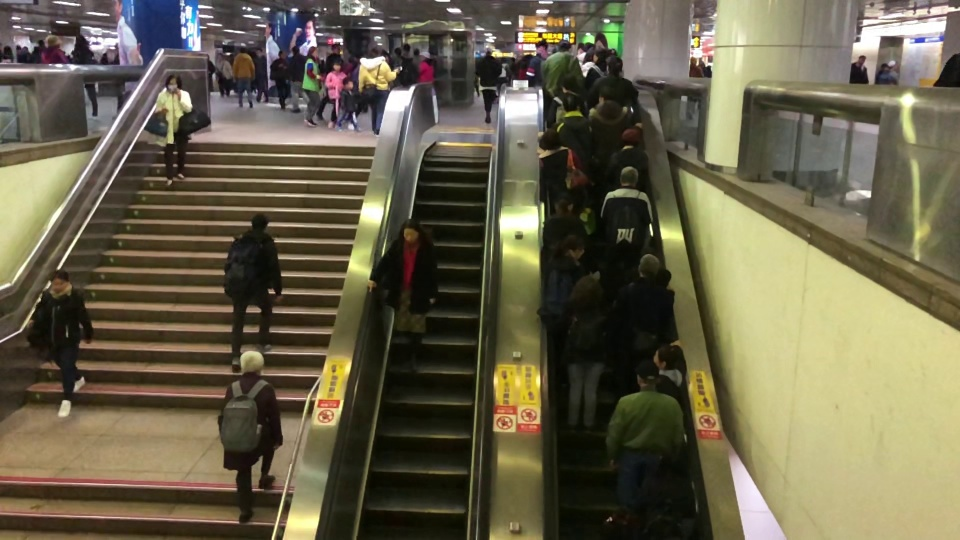person_head: (571, 274, 602, 305), (632, 358, 661, 390), (652, 343, 681, 372), (658, 451, 688, 478), (238, 349, 265, 376), (637, 253, 661, 282), (561, 233, 585, 260), (537, 127, 561, 152), (552, 191, 574, 216), (48, 269, 69, 295), (618, 165, 639, 188), (597, 84, 618, 104), (559, 71, 577, 92), (621, 128, 640, 147), (165, 73, 182, 94), (250, 212, 267, 233), (607, 54, 623, 76), (561, 93, 579, 112), (581, 49, 598, 65), (368, 45, 383, 60), (46, 34, 61, 48), (534, 40, 548, 55), (595, 51, 609, 66), (330, 58, 343, 73), (341, 76, 354, 91), (556, 39, 571, 52), (73, 34, 87, 46), (306, 46, 317, 59), (419, 51, 430, 63), (583, 42, 595, 53), (401, 43, 411, 56), (331, 42, 341, 54), (254, 47, 263, 58), (291, 45, 300, 56), (354, 53, 363, 64), (857, 54, 866, 65), (887, 60, 896, 71), (347, 55, 356, 65), (483, 46, 492, 56), (518, 58, 527, 68), (3, 45, 12, 54), (37, 39, 46, 48), (277, 50, 286, 59), (393, 47, 401, 57), (239, 46, 248, 54), (689, 56, 697, 65), (879, 63, 888, 71), (217, 52, 225, 60), (412, 48, 420, 56), (22, 46, 29, 54), (16, 46, 22, 54), (500, 56, 506, 64), (705, 65, 711, 72), (510, 56, 515, 63), (206, 54, 209, 61)
person_vbox: (603, 358, 685, 509), (218, 348, 284, 526), (26, 269, 94, 419), (610, 253, 675, 405), (557, 274, 615, 434), (225, 212, 282, 372), (597, 165, 653, 303), (535, 233, 592, 359), (627, 451, 697, 540), (587, 84, 643, 168), (153, 73, 193, 187), (537, 93, 593, 171), (538, 127, 585, 219), (357, 44, 400, 137), (540, 191, 591, 269), (592, 127, 649, 196), (541, 39, 585, 123), (586, 54, 639, 112), (544, 70, 589, 129), (69, 34, 98, 116), (653, 342, 687, 409), (316, 42, 344, 122), (475, 46, 502, 124), (301, 45, 323, 127), (324, 58, 347, 128), (286, 44, 309, 113), (334, 76, 361, 133), (231, 46, 255, 109), (269, 50, 290, 110), (685, 56, 703, 119), (350, 53, 368, 113), (525, 40, 548, 86), (395, 43, 419, 87), (932, 52, 960, 87), (252, 47, 269, 104), (586, 51, 609, 89), (40, 34, 69, 64), (215, 52, 233, 98), (496, 56, 512, 104), (579, 49, 602, 78), (848, 54, 869, 85), (417, 51, 435, 82), (575, 42, 596, 68), (879, 60, 898, 84), (31, 39, 46, 63), (206, 54, 215, 93), (874, 63, 888, 84), (507, 56, 517, 84), (517, 58, 529, 80), (344, 55, 357, 75), (0, 45, 14, 63), (391, 47, 402, 69), (22, 46, 34, 64), (411, 48, 421, 67), (703, 65, 712, 79), (16, 46, 22, 64)
